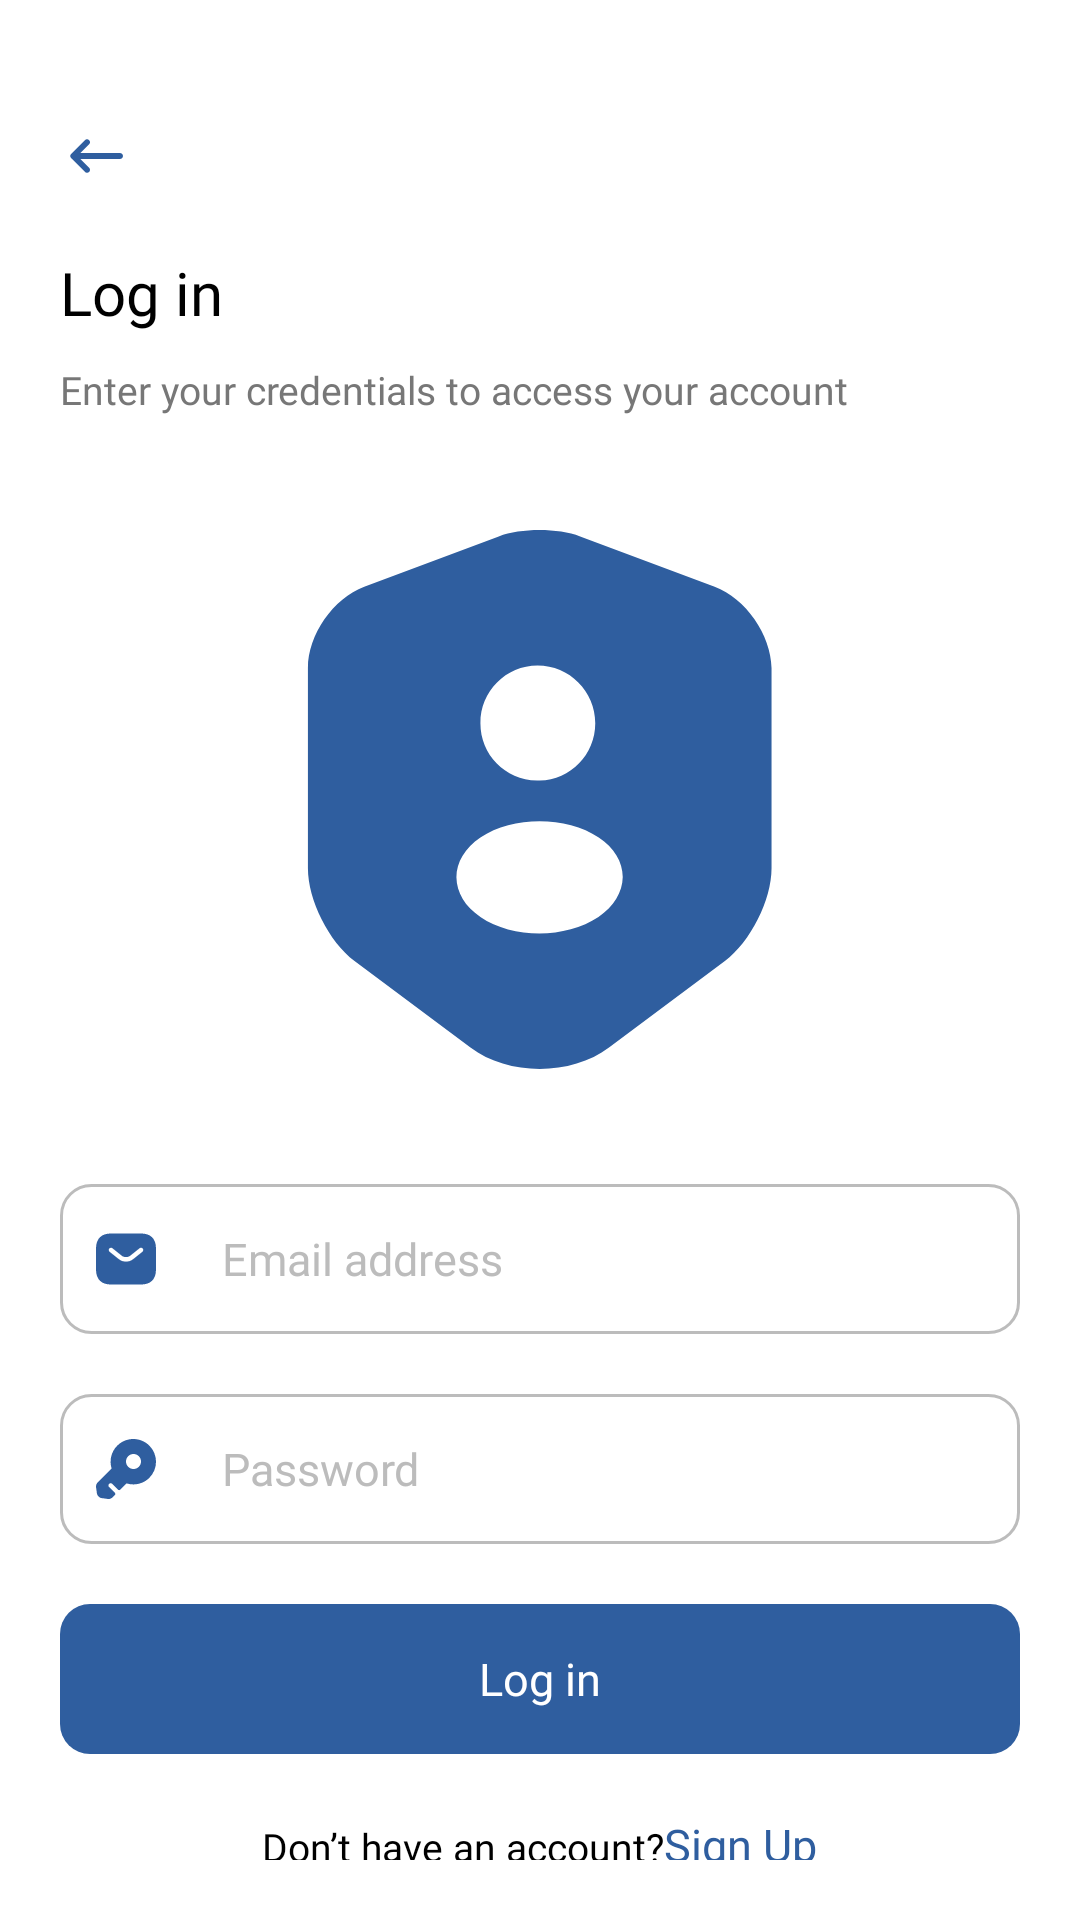

Icon click points for this 1080 x 1920 phone screenshot, format [x,y]:
back: [96,156]
key: [126,1469]
